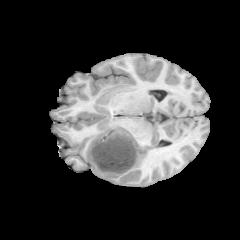glioma: (84, 112, 155, 178)
